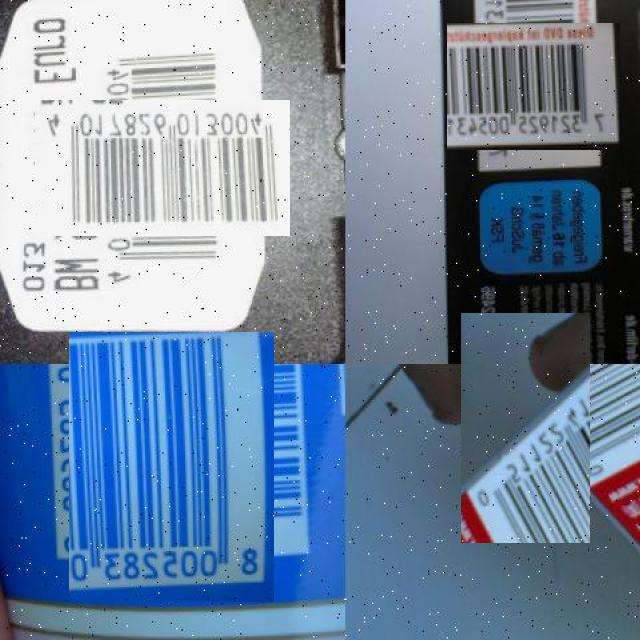Barcode: (53, 347, 290, 586), (64, 70, 260, 266), (435, 338, 615, 518), (459, 11, 609, 162)
